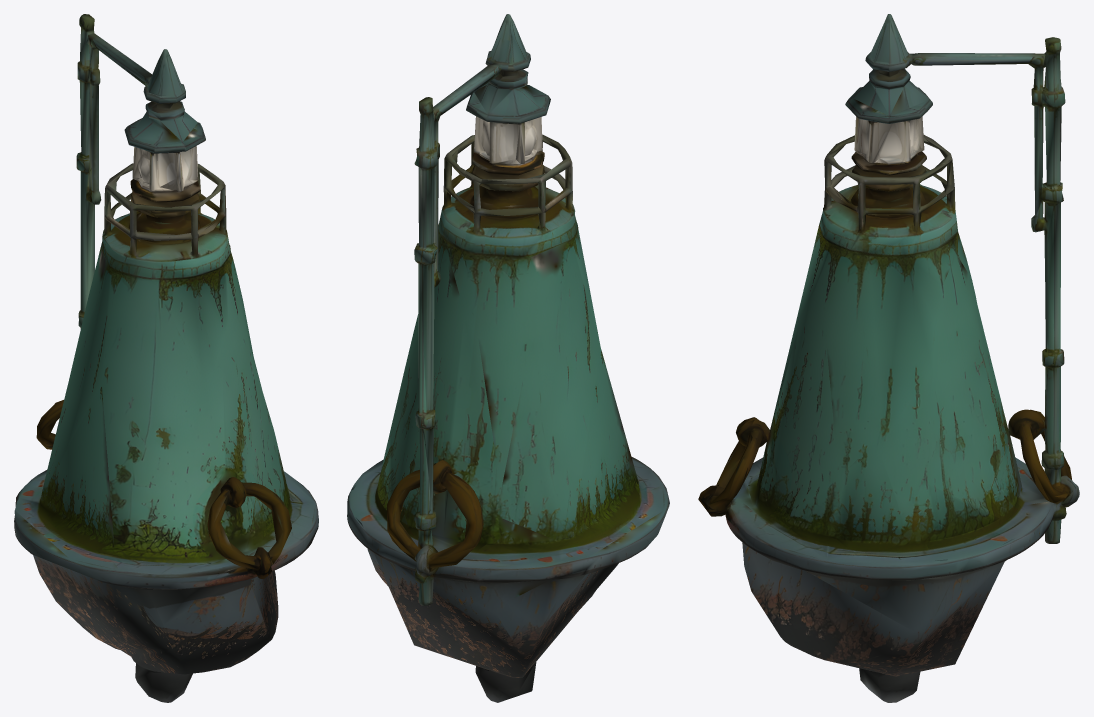
Rendered from lhi_buoy_green.glb.
The picture shows the model from 3 angles, left to right: view 1: azimuth 30°, elevation 25°; view 2: azimuth 150°, elevation 25°; view 3: azimuth 270°, elevation 25°; orthographic projection. The views are drawn at different scales.
Parts seen in each view (by area): view 1: material; view 2: material; view 3: material.
Part boxes in pixels (x1=…): material: x1=14, y1=14, x2=318, y2=702; material: x1=347, y1=14, x2=669, y2=702; material: x1=698, y1=14, x2=1079, y2=702.
Size of the model in its own units: 0.4928 by 1.16 by 0.586.
1 material, 1 textured.
